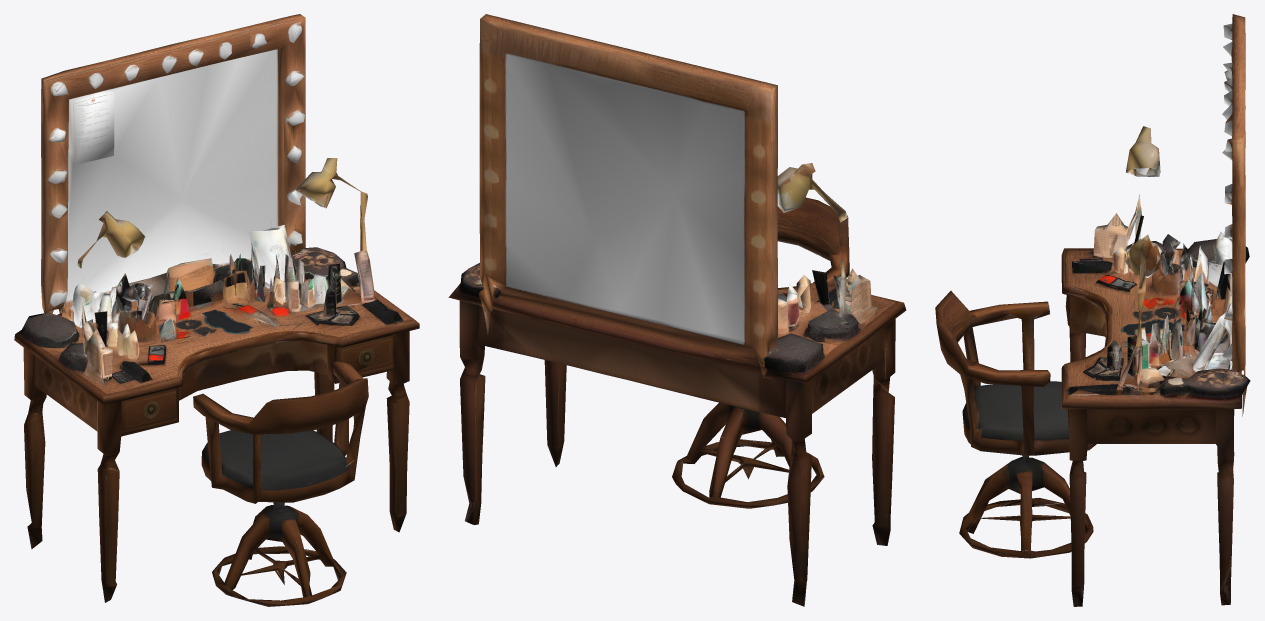
Rendered from Meshy_AI_Backstage_Vanity_0403034409_texture.fbx.
The picture shows the model from 3 angles, left to right: view 1: azimuth 30°, elevation 25°; view 2: azimuth 150°, elevation 25°; view 3: azimuth 270°, elevation 25°; orthographic projection. The views are drawn at different scales.
Visible parts, largest first — view 1: Mesh_0; view 2: Mesh_0; view 3: Mesh_0.
Boxes of the visible parts, x1,y1,x2,y2 form: Mesh_0: [14, 14, 419, 606]; Mesh_0: [448, 14, 906, 606]; Mesh_0: [935, 14, 1250, 606].
Size of the model in its own units: 138 by 191 by 119.
1 material, 1 textured.
